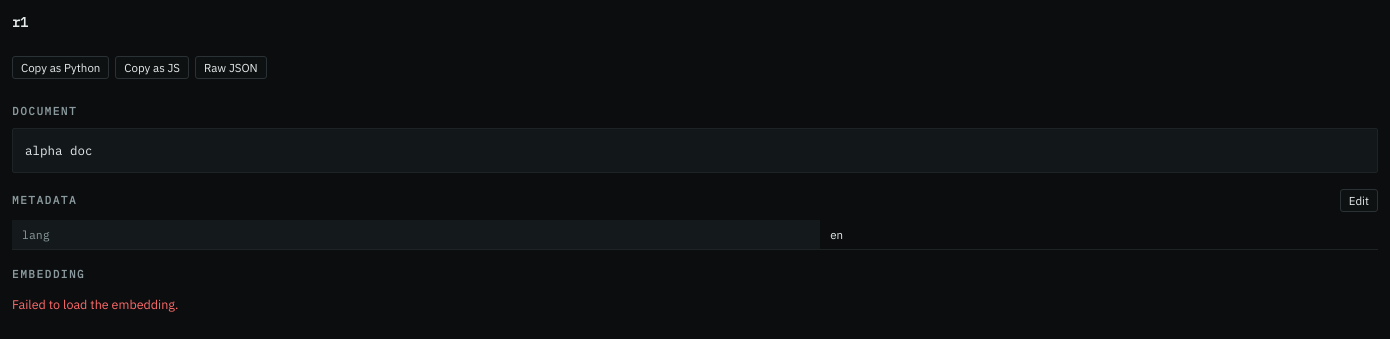
Scenario: raw JSON shows a failure alert and the partial payload when the full record fetch errors
The width and height of the screenshot is (1390, 339).
Expected: the text "r1" is shown, left=12, top=13, right=28, bottom=31
Click the button "Raw JSON" at (231, 68), box left=195, top=56, right=267, bottom=79
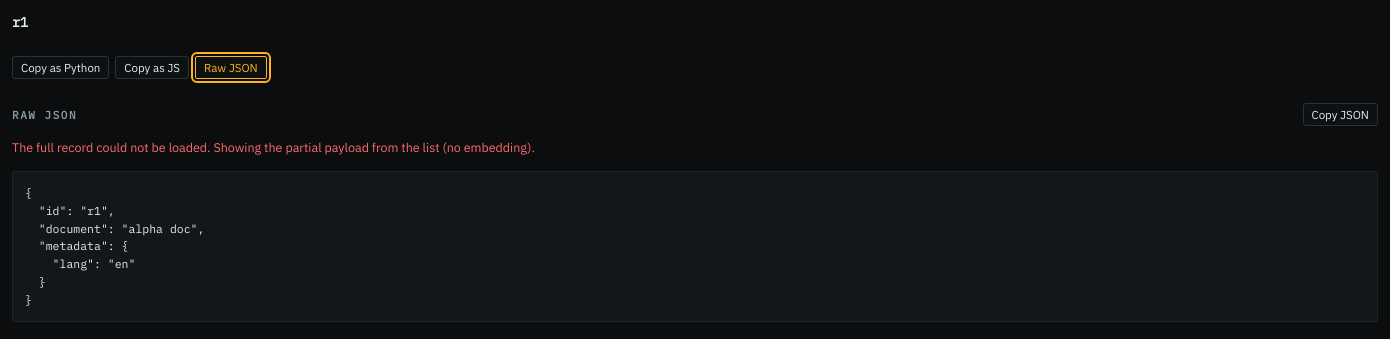
Result: the message shows "partial" at left=12, top=139, right=535, bottom=155
Result: the text with test id "inspector-raw" shows "\"id\": \"r1\"" at left=25, top=185, right=204, bottom=307
